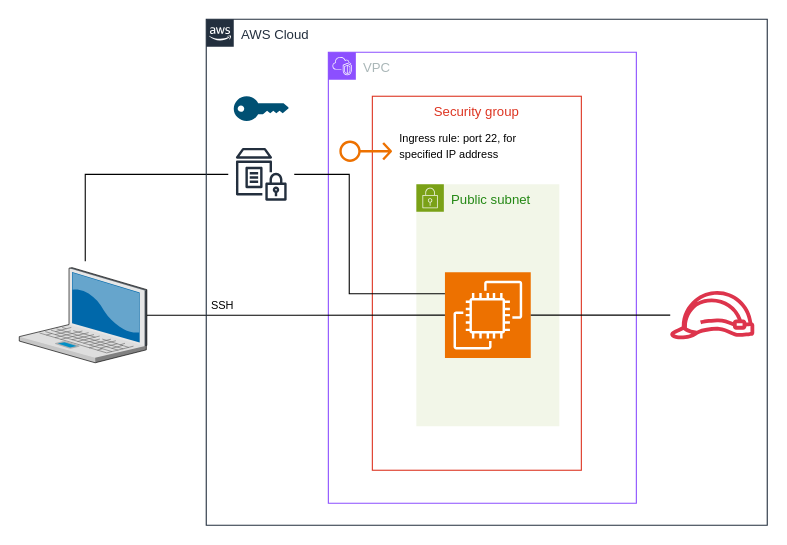
Image size: 787x545. Some labels were removed from this diagram. Each missing label, with the centre of its shape:
Parameter Store: the point at 260,173
RSA Key Pair: the point at 260,108
